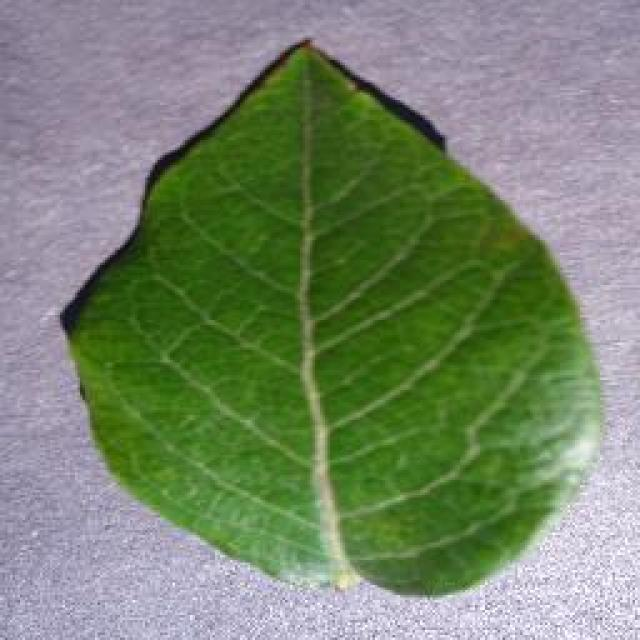Blu_healthy: (120, 138, 552, 536)
